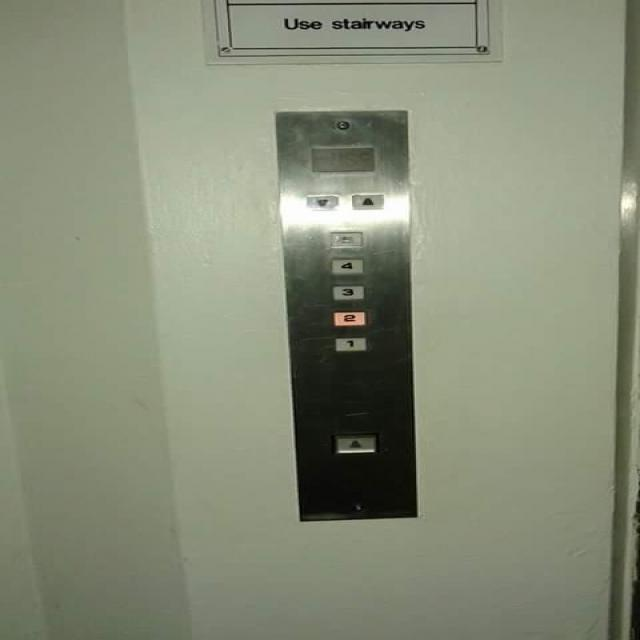1: (332, 337, 368, 352)
2: (329, 310, 368, 326)
3: (326, 283, 366, 302)
4: (327, 257, 365, 276)
5: (326, 230, 366, 248)
down: (348, 192, 387, 212)
up: (329, 429, 380, 455), (304, 194, 341, 211)
